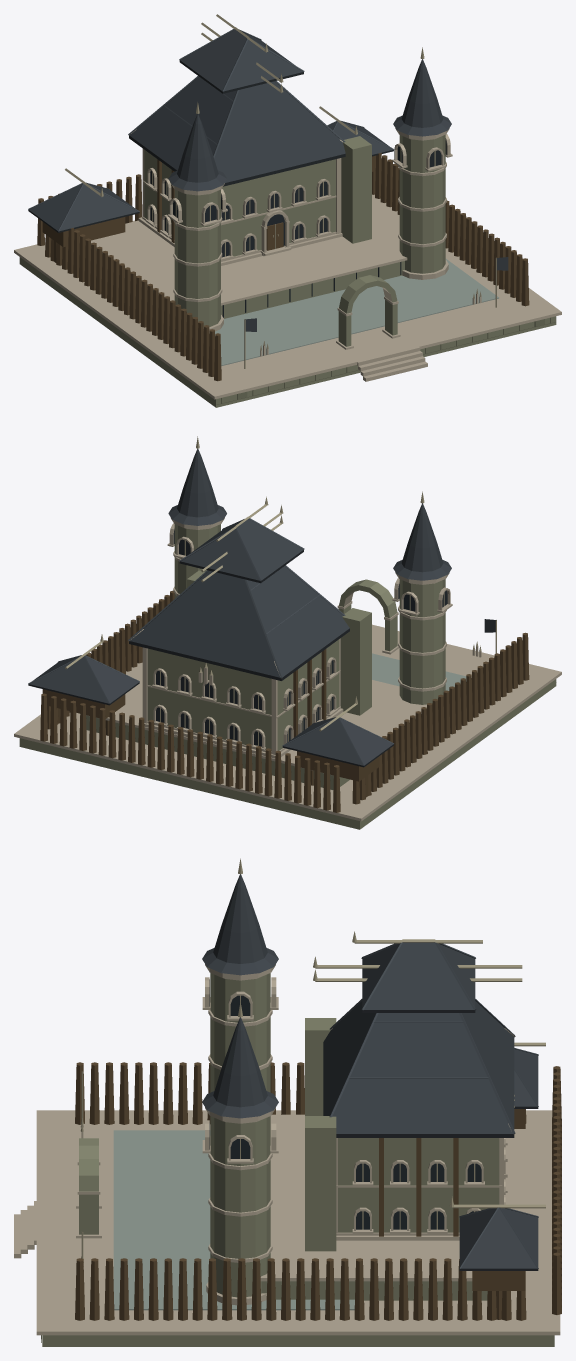
The model's file is taiga.glb.
3 views of the same model, one above another, from view 1: azimuth 30°, elevation 25°; view 2: azimuth 150°, elevation 25°; view 3: azimuth 270°, elevation 25° (orthographic). The views are drawn at different scales.
Visible parts, largest first — view 1: winterhold, precinct-base, winterhold-roof, inhabited-detail; view 2: winterhold, winterhold-roof, precinct-base; view 3: winterhold, precinct-base, winterhold-roof, inhabited-detail.
Boxes of the visible parts, x1=… form: winterhold: x1=37, y1=128, x2=529, y2=381; precinct-base: x1=14, y1=194, x2=561, y2=407; winterhold-roof: x1=28, y1=14, x2=451, y2=232; inhabited-detail: x1=216, y1=257, x2=555, y2=404; winterhold: x1=40, y1=517, x2=529, y2=812; winterhold-roof: x1=28, y1=436, x2=451, y2=767; precinct-base: x1=14, y1=626, x2=561, y2=829; winterhold: x1=75, y1=964, x2=561, y2=1320; precinct-base: x1=36, y1=1110, x2=560, y2=1346; winterhold-roof: x1=202, y1=858, x2=545, y2=1270; inhabited-detail: x1=14, y1=1071, x2=83, y2=1342.
Size of the model in its own units: 23.5 by 15.3 by 24.59.
